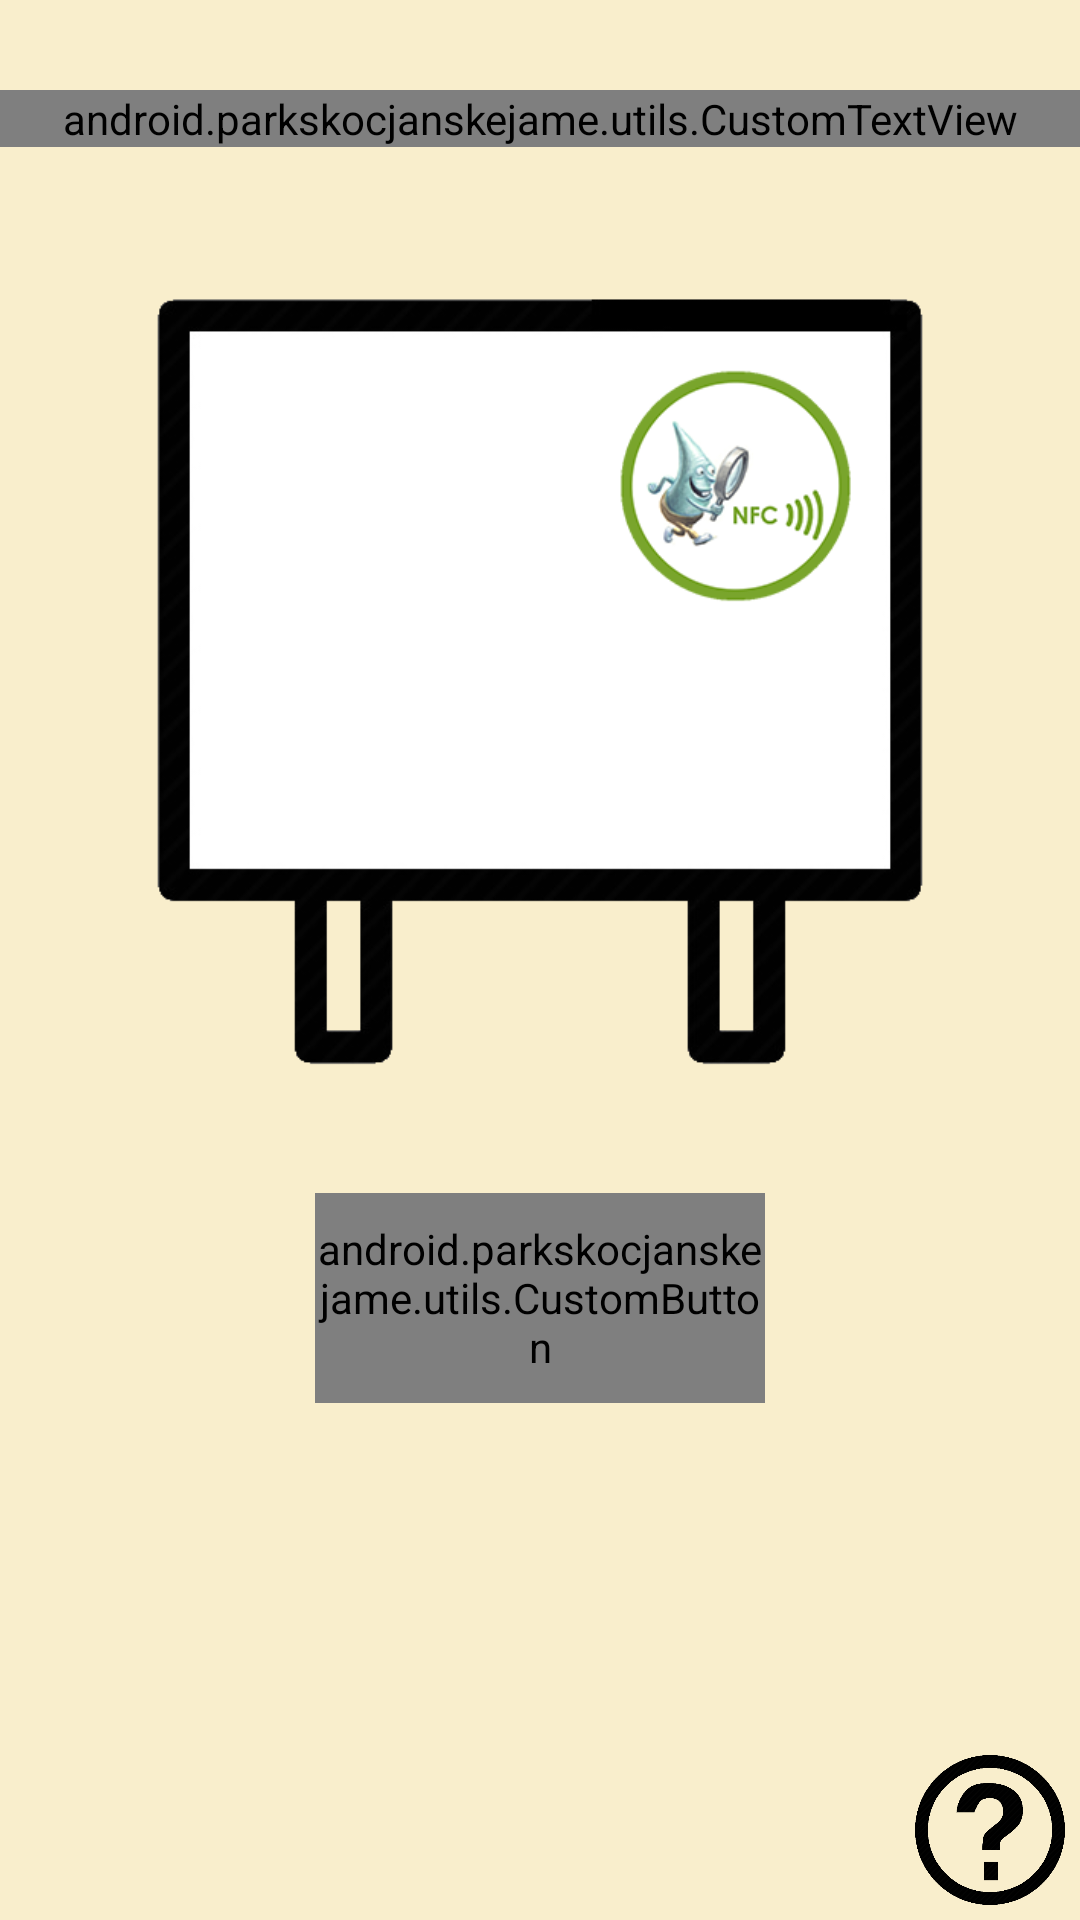

Named icons in this screenshot (1080px×1920px) and their bounding boxes, [x1,y1,x2,y2]:
help: [915,1755,1065,1905]
